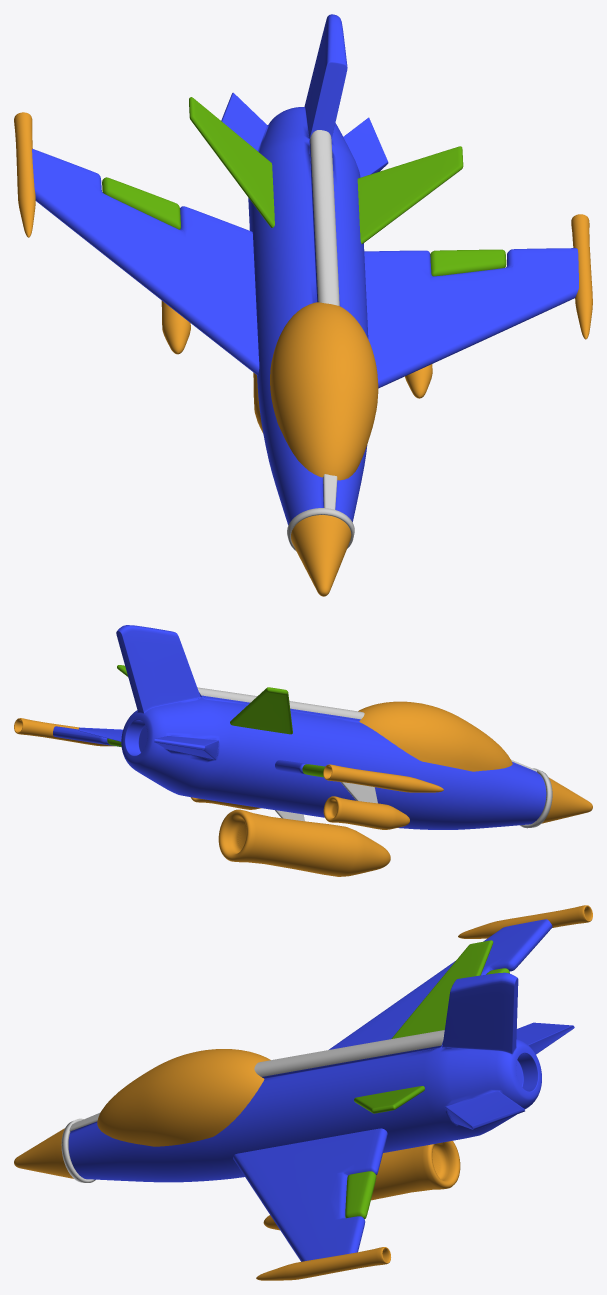
The model's file is jet fighter.fbx.
3 renders of one model, top to bottom at view 1: azimuth 30°, elevation 25°; view 2: azimuth 150°, elevation 25°; view 3: azimuth 270°, elevation 25°, orthographic. The views are drawn at different scales.
Parts seen in each view (by area): view 1: Plane.081, Cylinder.138, Sphere.010, Plane.092, Cylinder.141, Cylinder.116, Cylinder.139; view 2: Cylinder.138, Cylinder.140, Sphere.010, Cylinder.141, Cylinder.139, Plane.092, Plane.081, Cylinder.116, Plane.082, Cylinder.117; view 3: Cylinder.138, Plane.081, Sphere.010, Plane.092, Cylinder.140, Cylinder.141, Cylinder.116, Cylinder.117.
Part boxes in pixels (x1=…): Plane.081: x1=32, y1=149, x2=578, y2=388; Cylinder.138: x1=221, y1=14, x2=388, y2=525; Sphere.010: x1=270, y1=302, x2=378, y2=480; Plane.092: x1=189, y1=97, x2=463, y2=243; Cylinder.141: x1=14, y1=112, x2=592, y2=339; Cylinder.116: x1=291, y1=515, x2=351, y2=596; Cylinder.139: x1=161, y1=300, x2=432, y2=398; Cylinder.138: x1=78, y1=625, x2=546, y2=829; Cylinder.140: x1=218, y1=809, x2=390, y2=876; Sphere.010: x1=358, y1=701, x2=512, y2=771; Cylinder.141: x1=14, y1=718, x2=443, y2=792; Cylinder.139: x1=191, y1=796, x2=409, y2=829; Plane.092: x1=117, y1=665, x2=292, y2=734; Plane.081: x1=53, y1=726, x2=324, y2=777; Cylinder.116: x1=538, y1=773, x2=592, y2=823; Plane.082: x1=340, y1=782, x2=377, y2=803; Cylinder.117: x1=520, y1=768, x2=552, y2=828; Cylinder.138: x1=68, y1=972, x2=574, y2=1182; Plane.081: x1=233, y1=919, x2=552, y2=1261; Sphere.010: x1=97, y1=1049, x2=270, y2=1146; Plane.092: x1=354, y1=940, x2=493, y2=1113; Cylinder.140: x1=371, y1=1141, x2=460, y2=1200; Cylinder.141: x1=256, y1=905, x2=592, y2=1280; Cylinder.116: x1=14, y1=1128, x2=73, y2=1178; Cylinder.117: x1=61, y1=1118, x2=95, y2=1182.
Bounding box in the file's own units: 177 × 107 × 177.
